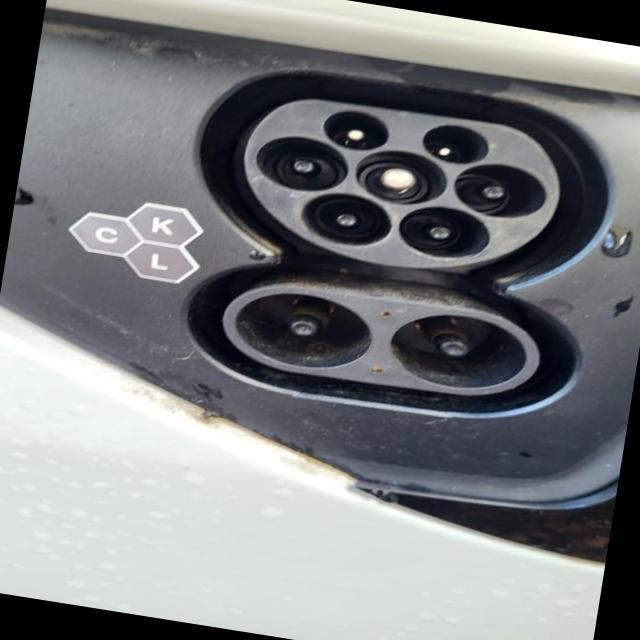inlet: (245, 98, 562, 269)
inlet-above-left: (324, 111, 391, 150)
inlet-above-right: (424, 124, 489, 164)
inlet-below-left: (303, 193, 393, 246)
inlet-below-right: (400, 206, 489, 260)
inlet-center: (355, 149, 449, 205)
inlet-center-left: (257, 137, 350, 190)
inlet-center-right: (454, 162, 546, 219)
